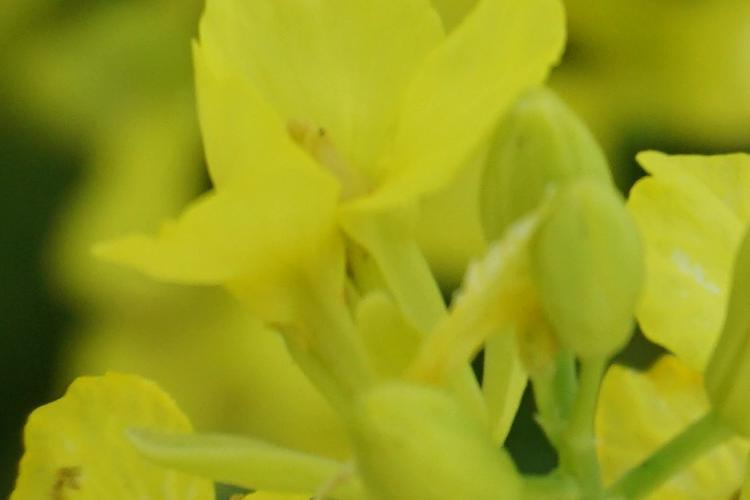bud: (344, 366, 537, 497), (490, 98, 632, 252), (530, 184, 643, 371)
yellow: (132, 4, 535, 328)
